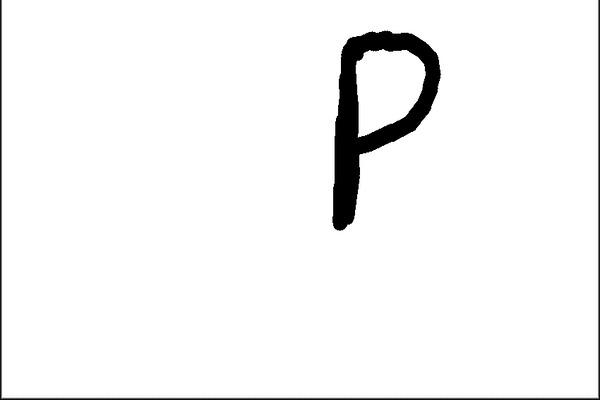P: (323, 26, 445, 235)
